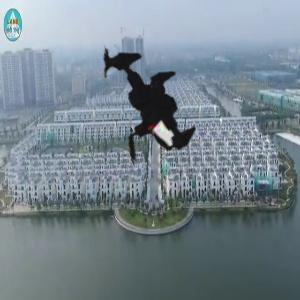drone: (46, 13, 234, 201)
